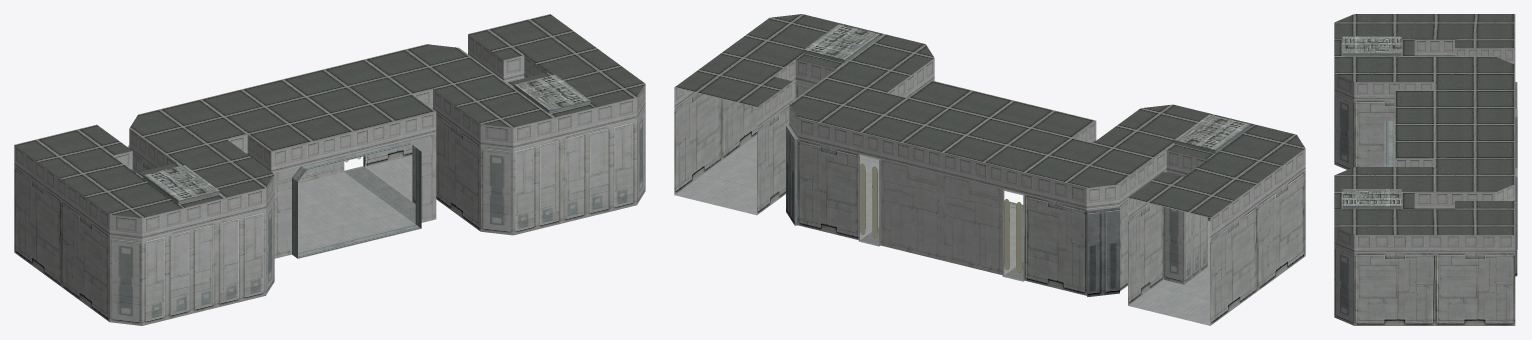
Rendered from mun_all_military_base_police_station_impl_s01_r1_foyer1_mesh_r1.fbx.
3 renders of one model, left to right at view 1: azimuth 30°, elevation 25°; view 2: azimuth 150°, elevation 25°; view 3: azimuth 270°, elevation 25°, orthographic. The views are drawn at different scales.
Visible parts, largest first — view 1: mesh_node; view 2: mesh_node; view 3: mesh_node.
Boxes of the visible parts, <box> form: mesh_node: <box>14,14,645,325</box>; mesh_node: <box>674,14,1305,325</box>; mesh_node: <box>1334,14,1517,325</box>.
Size of the model in its own units: 26 by 5.17 by 9.12.
